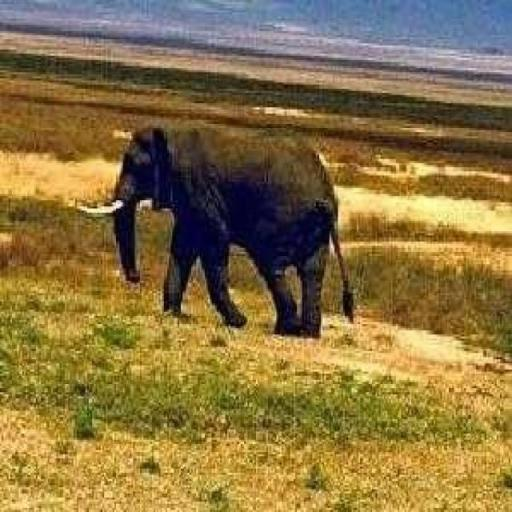Elephant: (75, 122, 355, 338)
